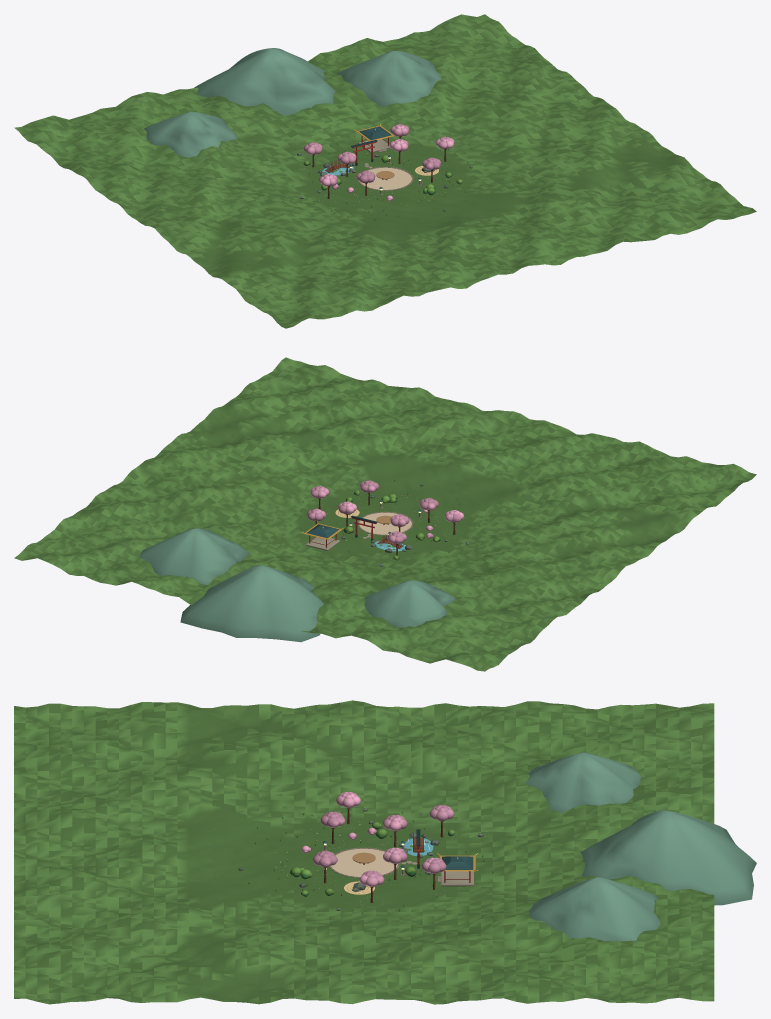
The model's file is japao.glb.
3 renders of one model, top to bottom at view 1: azimuth 30°, elevation 25°; view 2: azimuth 150°, elevation 25°; view 3: azimuth 270°, elevation 25°, orthographic. The views are drawn at different scales.
Visible parts, largest first — view 1: japao; view 2: japao; view 3: japao.
Boxes of the visible parts, x1,y1,x2,y2 form: japao: (14,14,756,328); japao: (14,357,756,671); japao: (14,700,756,1004).
Bounding box in the file's own units: 90 × 8.24 × 95.49.
